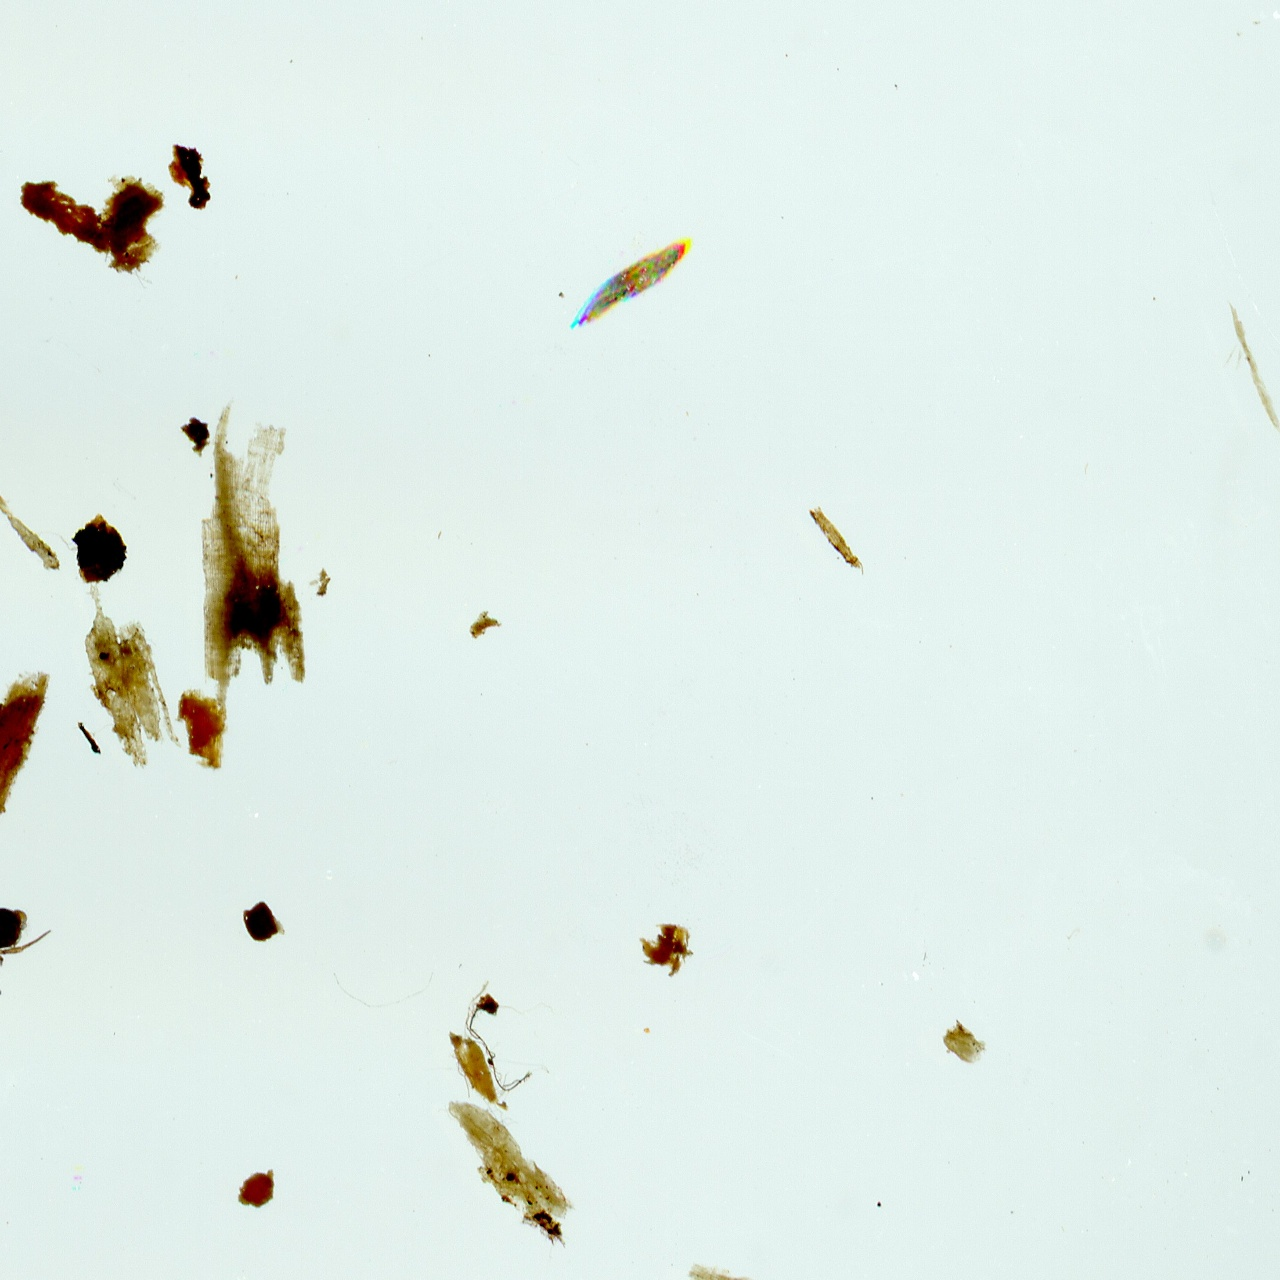arthropod: (0, 900, 59, 1003)
